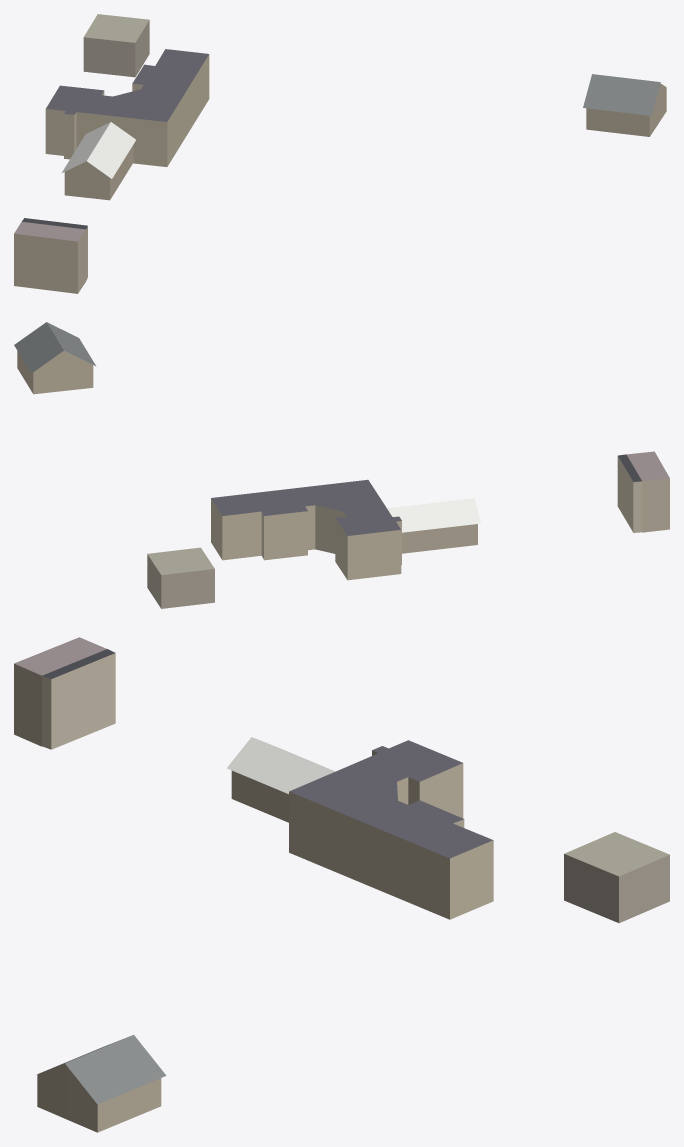
The picture shows the model from 3 angles, top to bottom: view 1: azimuth 30°, elevation 25°; view 2: azimuth 150°, elevation 25°; view 3: azimuth 270°, elevation 25°; orthographic projection. The views are drawn at different scales.
Parts seen in each view (by area): view 1: tuile; view 2: tuile; view 3: tuile.
Part boxes in pixels (box(x1,y1,x2,y2)): tuile: box(14, 14, 666, 293); tuile: box(14, 322, 669, 608); tuile: box(14, 637, 669, 1132).
Size of the model in its own units: 100 by 7.56 by 63.21.
